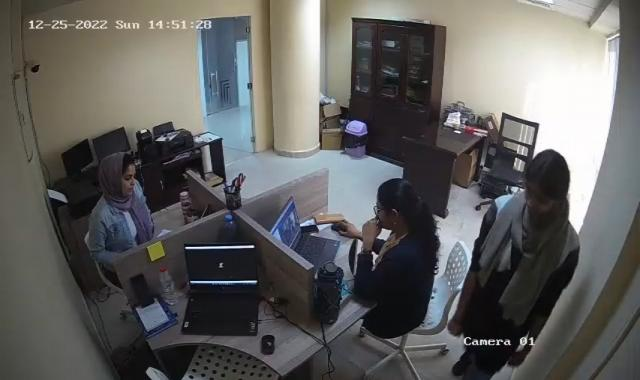no_hairnet: (523, 149, 569, 219), (376, 177, 418, 231), (97, 150, 136, 198)
